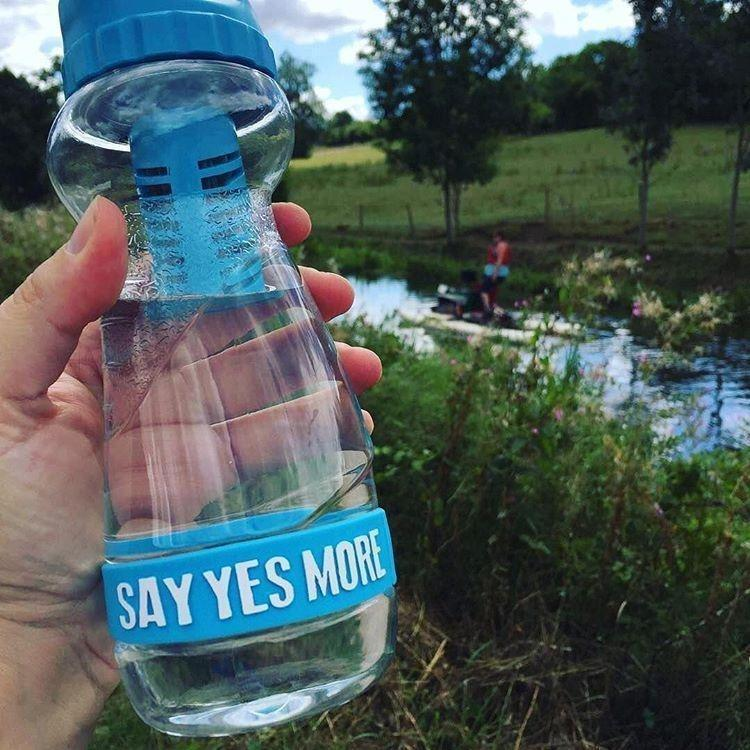gym bottle: (48, 0, 405, 741)
